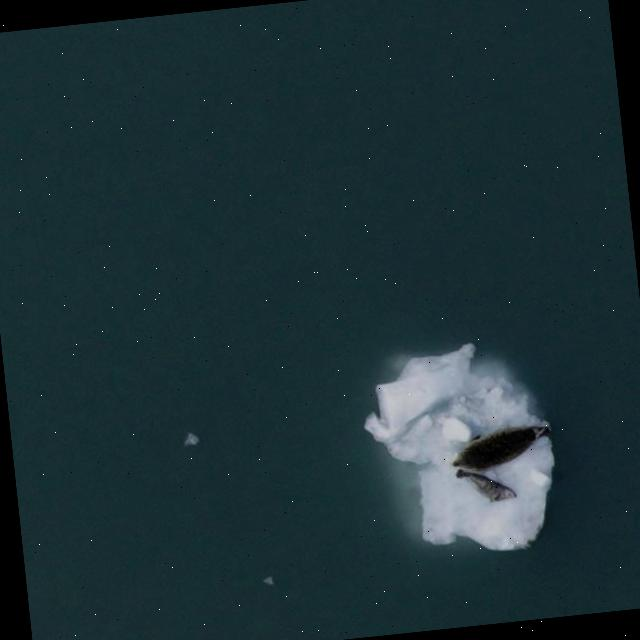seal: (444, 410, 555, 480), (451, 464, 519, 512)
